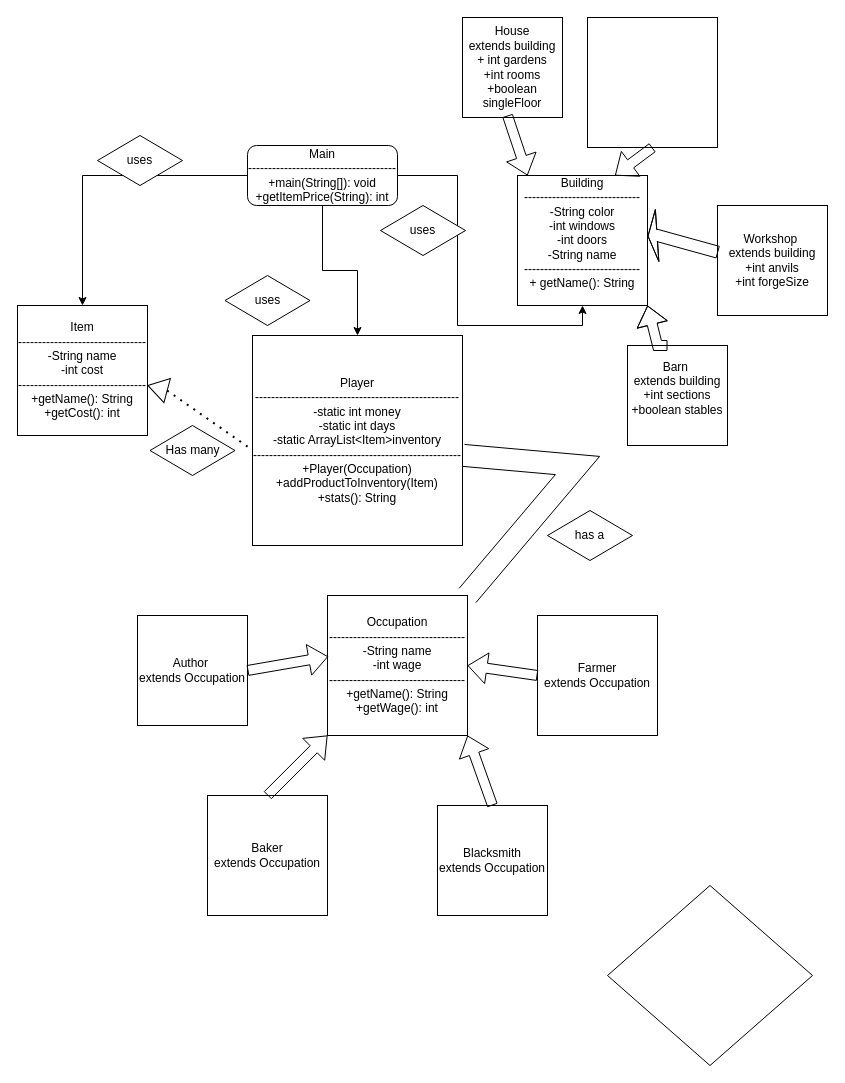
Some shapes in this 845 by 1083 pixel diagram are drawn without their labels. The shapes that lost their labels are listed below. From the top down, each one's box as (x1, y1, x2, y2) in pixels, then its label:
(586, 16, 718, 148): Bakery extends Building +int ovens +int displayWindows
(606, 884, 812, 1066): Legend markers
